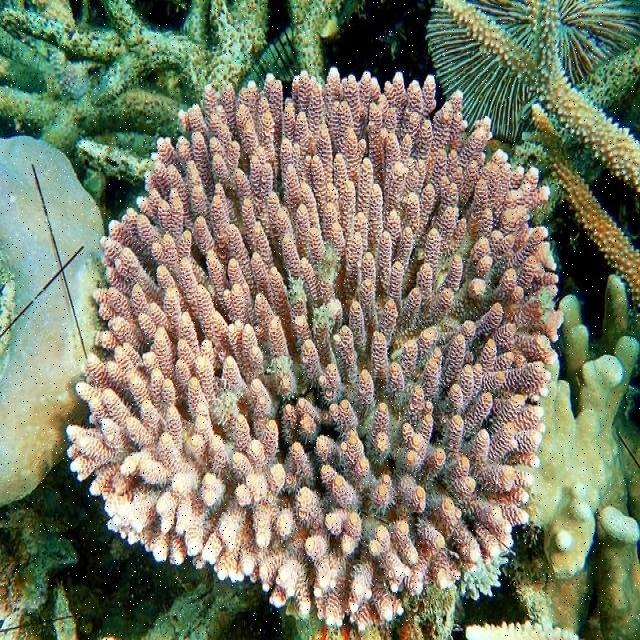reefs: (66, 66, 566, 630), (0, 1, 359, 181), (465, 272, 638, 639), (443, 0, 639, 307), (0, 136, 106, 507), (428, 0, 639, 143)
